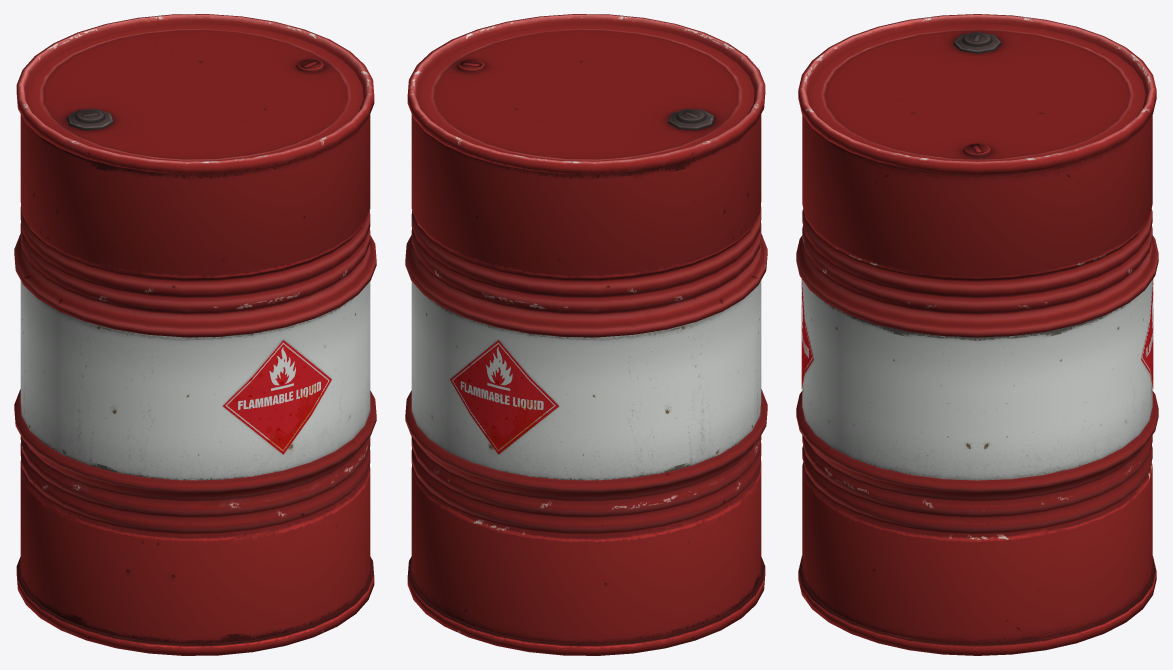
File: explosive_barrel.glb
The picture shows the model from 3 angles, left to right: view 1: azimuth 30°, elevation 25°; view 2: azimuth 150°, elevation 25°; view 3: azimuth 270°, elevation 25°; orthographic projection.
Visible parts, largest first — view 1: Object_2; view 2: Object_2; view 3: Object_2.
Boxes of the visible parts, left/top/right/bottom form: Object_2: left=14, top=14, right=376, bottom=655; Object_2: left=405, top=14, right=767, bottom=655; Object_2: left=796, top=14, right=1158, bottom=655.
Size of the model in its own units: 2 by 3 by 2.
Materials: 1 (1 with a texture image).
